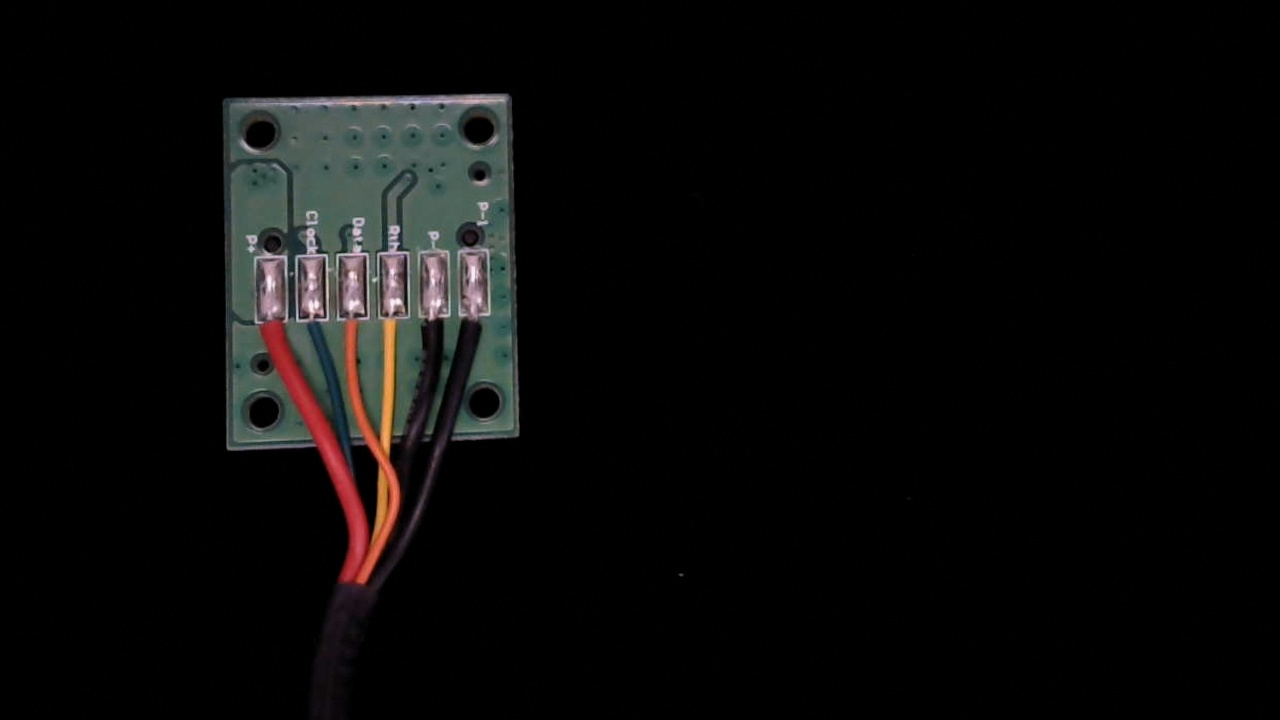Black: (420, 298, 447, 369)
Black1: (458, 298, 490, 357)
Green: (297, 300, 326, 366)
Orange: (337, 301, 367, 364)
Red: (252, 303, 285, 368)
Yellow: (377, 298, 408, 370)
